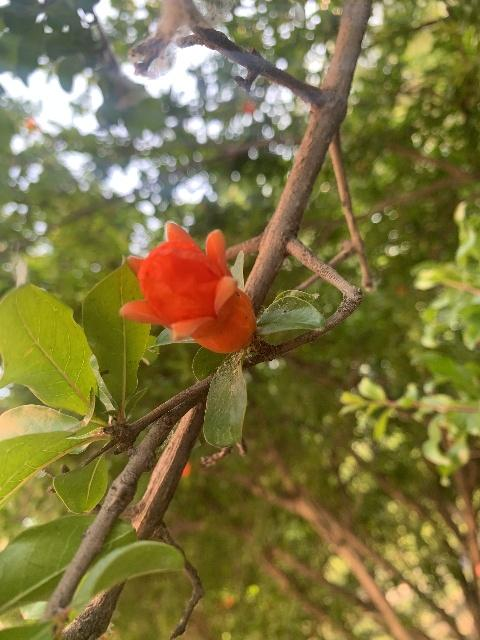flower: (119, 221, 255, 355)
